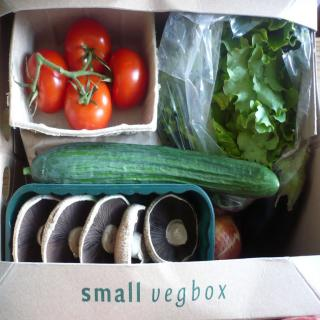tomato: (94, 45, 148, 108), (23, 46, 72, 112), (64, 70, 114, 130), (66, 16, 111, 76)
